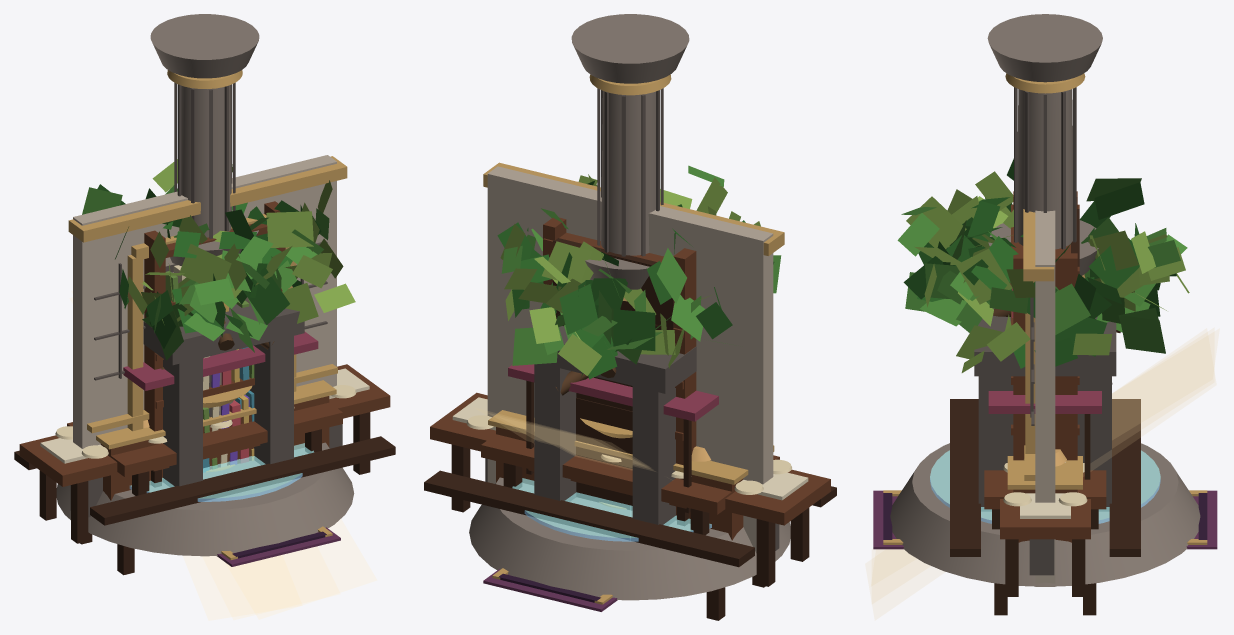
Rendered from academy-prefabs.glb.
3 renders of one model, left to right at view 1: azimuth 30°, elevation 25°; view 2: azimuth 150°, elevation 25°; view 3: azimuth 270°, elevation 25°, orthographic. The views are drawn at different scales.
Visible parts, largest first — view 1: plaster_body, basin, leaf_card (×12), warm_light_beam (×3), bench, capital, shaft, left_jamb, right_jamb, top_trim, table_top, long_table (+16 smaller); view 2: plaster_body, basin, leaf_card (×13), bench, capital (×2), shaft, left_jamb, right_jamb, table_top, long_table, flute (×4), leg (×3) (+18 smaller); view 3: leaf_card (×23), basin, bench (×2), warm_light_beam, capital (×2), plaster_body, shaft, right_jamb, right_side, mantel, flute (×4), long_table (+11 smaller).
Boxes of the visible parts, left/top/right/bottom form: plaster_body: left=73, top=155, right=336, bottom=448; basin: left=56, top=442, right=354, bottom=556; leaf_card (×12): left=82, top=187, right=355, bottom=341; warm_light_beam (×3): left=70, top=291, right=376, bottom=619; bench: left=90, top=436, right=395, bottom=525; capital: left=150, top=14, right=259, bottom=78; shaft: left=181, top=85, right=233, bottom=415; left_jamb: left=163, top=358, right=202, bottom=487; right_jamb: left=250, top=336, right=293, bottom=465; top_trim: left=68, top=156, right=347, bottom=242; table_top: left=67, top=402, right=342, bottom=476; long_table: left=19, top=364, right=390, bottom=486; plaster_body: left=487, top=166, right=773, bottom=553; basin: left=469, top=477, right=790, bottom=600; leaf_card (×13): left=512, top=177, right=732, bottom=379; bench: left=424, top=470, right=754, bottom=567; capital (×2): left=571, top=14, right=689, bottom=289; shaft: left=601, top=91, right=655, bottom=255; left_jamb: left=632, top=386, right=675, bottom=525; right_jamb: left=534, top=364, right=576, bottom=501; table_top: left=481, top=434, right=779, bottom=514; long_table: left=430, top=392, right=830, bottom=525; flute (×4): left=597, top=88, right=645, bottom=256; leg (×3): left=451, top=444, right=809, bottom=586; leaf_card (×23): left=897, top=171, right=1180, bottom=361; basin: left=890, top=443, right=1200, bottom=586; bench (×2): left=950, top=399, right=1140, bottom=556; warm_light_beam: left=866, top=329, right=1215, bottom=619; capital (×2): left=987, top=14, right=1102, bottom=275; plaster_body: left=1035, top=210, right=1055, bottom=586; shaft: left=1017, top=89, right=1072, bottom=249; right_jamb: left=978, top=376, right=1111, bottom=511; right_side: left=1013, top=253, right=1077, bottom=460; mantel: left=974, top=308, right=1116, bottom=376; flute (×4): left=1014, top=87, right=1076, bottom=249; long_table: left=1000, top=499, right=1090, bottom=539.
Bounding box in the file's own units: 3.6 × 5.38 × 3.2.
